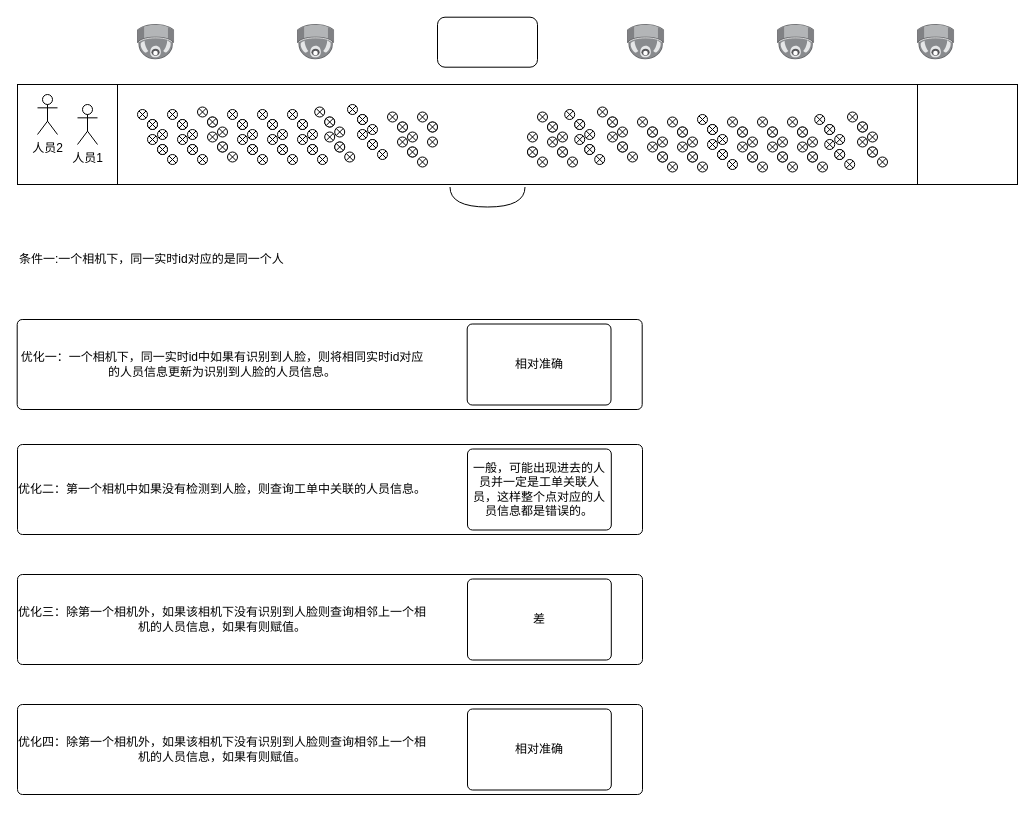
This 1036x813 diagram has some shape labels left out. Each missing label, with the centre of its shape:
"盲区" goes at (487,41).
"补点" goes at (487,196).
